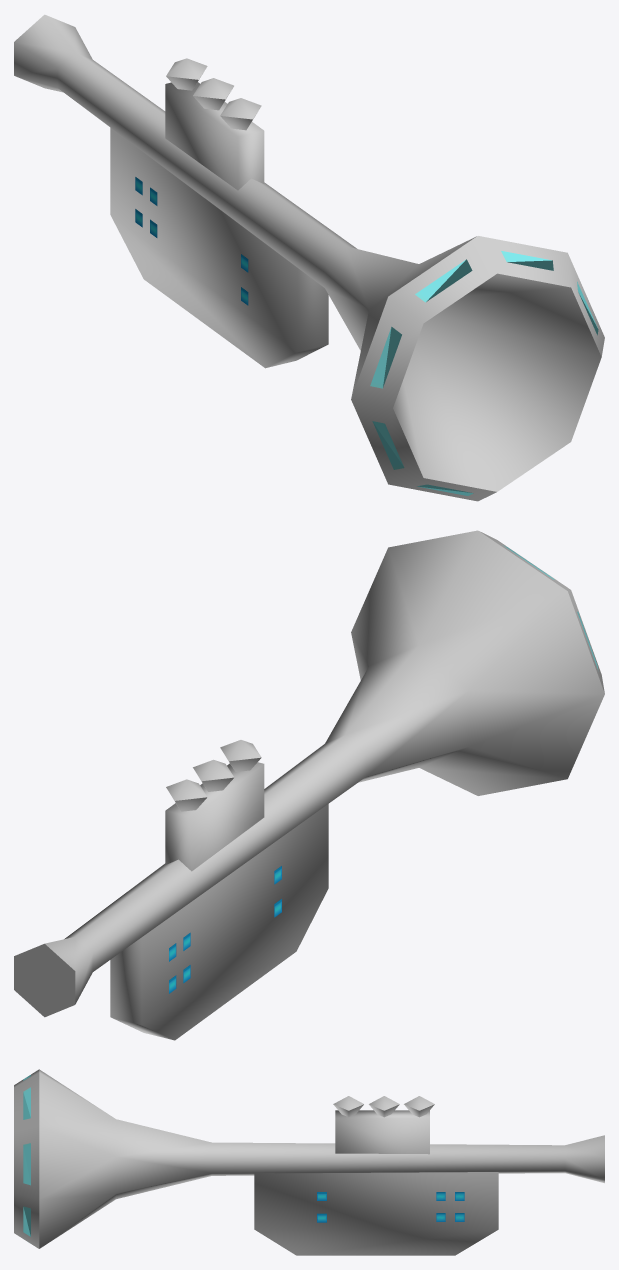
File: enm_pawn_shp_Weapon_R.obj
3 views of the same model, one above another, from view 1: azimuth 30°, elevation 25°; view 2: azimuth 150°, elevation 25°; view 3: azimuth 270°, elevation 25° (orthographic). The views are drawn at different scales.
Parts seen in each view (by area): view 1: polygon0, polygon1; view 2: polygon0, polygon1; view 3: polygon0, polygon1.
Boxes of the visible parts, bbox=[...] form: polygon0: bbox=[14, 14, 604, 501]; polygon1: bbox=[135, 177, 598, 495]; polygon0: bbox=[14, 530, 604, 1040]; polygon1: bbox=[169, 545, 598, 993]; polygon0: bbox=[14, 1069, 604, 1255]; polygon1: bbox=[23, 1075, 464, 1236].
Bounding box in the file's own units: 6.74 × 6.92 × 20.8.
